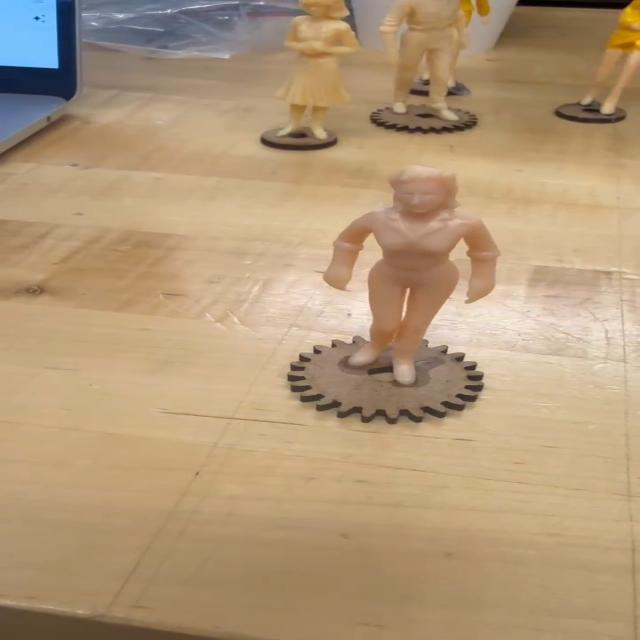Unauthorized: (316, 157, 522, 389)
